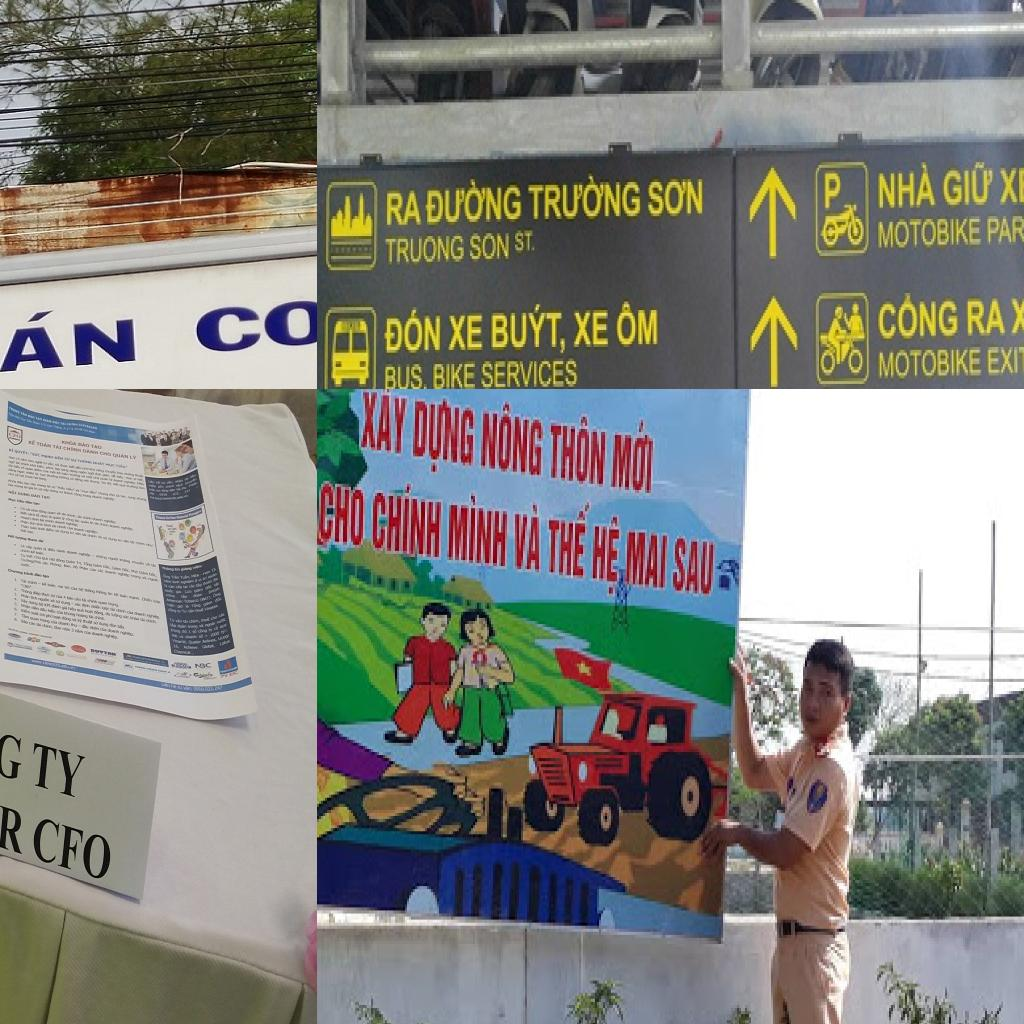text: (0, 303, 140, 389), (185, 278, 317, 356), (32, 808, 114, 888), (373, 475, 445, 566), (479, 395, 549, 484), (411, 392, 479, 481), (526, 173, 645, 222), (445, 487, 511, 572), (426, 176, 524, 228), (547, 414, 609, 493), (878, 290, 960, 344), (875, 213, 984, 253), (489, 302, 568, 356), (547, 496, 595, 584), (29, 733, 88, 804), (609, 417, 659, 499), (319, 475, 367, 554), (359, 389, 413, 459), (876, 347, 984, 381), (623, 520, 671, 596), (479, 355, 580, 389), (877, 160, 939, 214), (589, 511, 623, 606), (385, 304, 443, 358), (384, 233, 467, 270), (646, 173, 706, 222), (511, 499, 545, 581), (614, 296, 662, 352), (942, 160, 995, 210), (0, 690, 23, 789), (966, 293, 1010, 341), (444, 308, 484, 358), (386, 188, 426, 233), (468, 228, 512, 268), (573, 307, 611, 353), (430, 358, 478, 389), (985, 210, 1024, 247), (383, 361, 430, 389), (986, 344, 1024, 378), (998, 165, 1024, 207), (822, 171, 843, 213), (513, 225, 539, 256), (30, 656, 76, 672), (1009, 293, 1024, 335), (89, 646, 117, 657), (194, 660, 214, 670), (63, 445, 82, 454), (62, 437, 77, 447), (36, 440, 52, 449), (112, 452, 130, 460), (82, 448, 99, 456), (14, 448, 30, 456), (78, 457, 92, 465), (174, 661, 188, 669), (9, 431, 21, 440), (93, 459, 105, 467), (78, 440, 90, 448), (90, 442, 102, 450), (116, 463, 128, 470), (100, 450, 112, 457), (30, 450, 40, 458), (130, 453, 138, 463), (41, 453, 54, 459), (54, 454, 64, 461), (52, 443, 62, 450), (105, 462, 116, 468), (28, 438, 36, 446), (8, 446, 14, 453), (64, 455, 70, 462), (71, 457, 77, 463)
